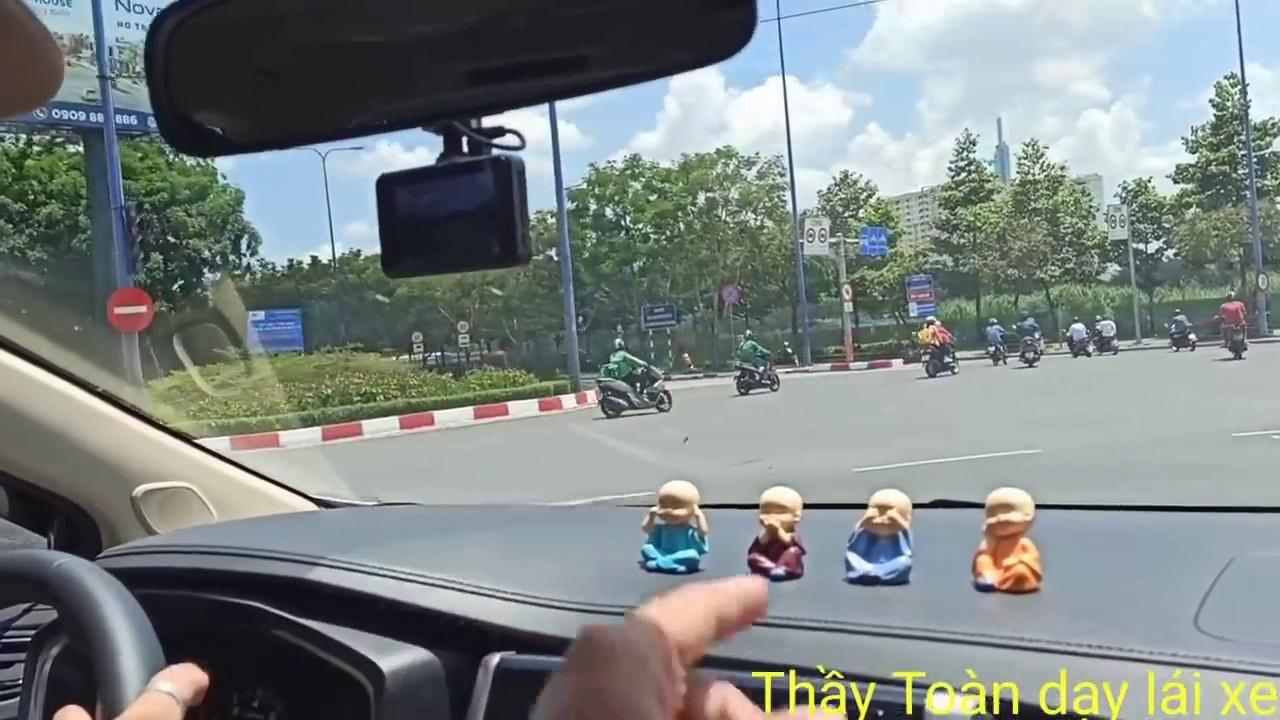Biển phụ: (458, 334, 471, 348), (413, 343, 424, 357)
Cấm cac phương tiện hoạt động trong khung giờ cố định: (802, 215, 831, 256)
Cấm dừng - Cấm đỗ: (719, 281, 741, 305)
Cấm xe máy: (839, 281, 855, 301)
Cấm đi ngược chiều: (106, 282, 156, 334)
Khác: (247, 308, 306, 350), (902, 273, 938, 317)
Làn đường cho từng xe: (857, 223, 886, 256)
